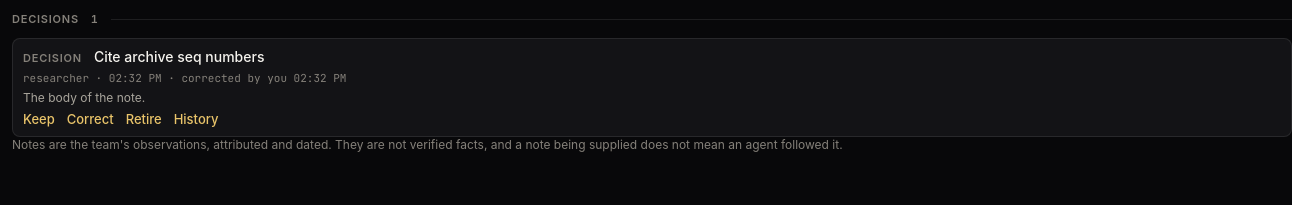
Test: NotebookTab › opens the full revision history on demand
Click the button "History" at (196, 119), box [174,110,218,128]
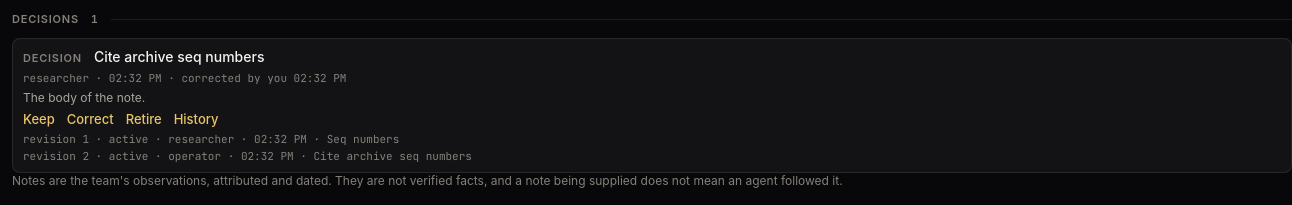
Expected: the text "revision 1 · active · researcher · 02:32 PM · Seq numbers" is shown, [23,132,399,146]
Expected: the text "revision 2 · active · operator" is shown, [23,149,472,163]
